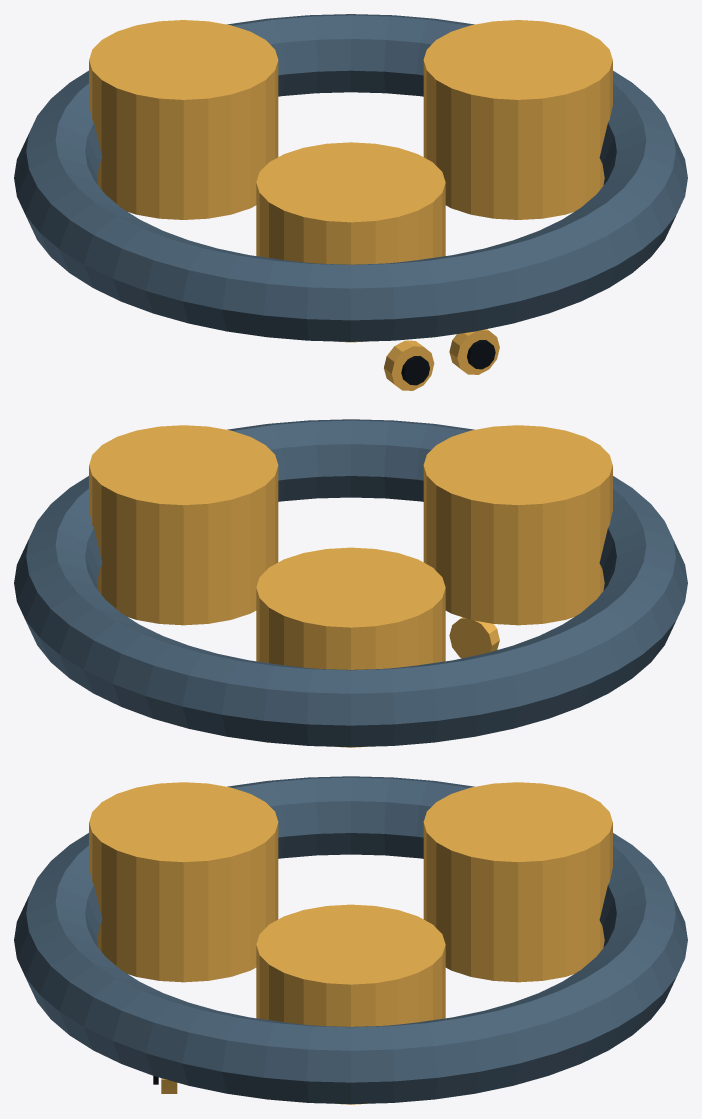
Rendered from 32_L92_LanderAttitudeStabilizer.fbx.
The picture shows the model from 3 angles, top to bottom: view 1: azimuth 30°, elevation 25°; view 2: azimuth 150°, elevation 25°; view 3: azimuth 270°, elevation 25°; orthographic projection.
Parts seen in each view (by area): view 1: L92_LanderAttitudeStabilizer_Part_0001, L92_LanderAttitudeStabilizer_Part_0000, L92_LanderAttitudeStabilizer_Part_0002, L92_LanderAttitudeStabilizer_Part_0004, L92_LanderAttitudeStabilizer_Part_0005, L92_LanderAttitudeStabilizer_Part_0003; view 2: L92_LanderAttitudeStabilizer_Part_0001, L92_LanderAttitudeStabilizer_Part_0000, L92_LanderAttitudeStabilizer_Part_0002; view 3: L92_LanderAttitudeStabilizer_Part_0001, L92_LanderAttitudeStabilizer_Part_0000.
Boxes of the visible parts, <box> form: L92_LanderAttitudeStabilizer_Part_0001: <box>89,20,612,342</box>; L92_LanderAttitudeStabilizer_Part_0000: <box>14,14,687,341</box>; L92_LanderAttitudeStabilizer_Part_0002: <box>384,340,434,390</box>; L92_LanderAttitudeStabilizer_Part_0004: <box>449,329,499,374</box>; L92_LanderAttitudeStabilizer_Part_0005: <box>467,340,495,369</box>; L92_LanderAttitudeStabilizer_Part_0003: <box>401,356,429,385</box>; L92_LanderAttitudeStabilizer_Part_0001: <box>89,425,612,747</box>; L92_LanderAttitudeStabilizer_Part_0000: <box>14,419,687,747</box>; L92_LanderAttitudeStabilizer_Part_0002: <box>449,617,499,658</box>; L92_LanderAttitudeStabilizer_Part_0001: <box>89,782,612,1104</box>; L92_LanderAttitudeStabilizer_Part_0000: <box>14,776,687,1104</box>.
Bounding box in the file's own units: 178 × 62 × 178.
